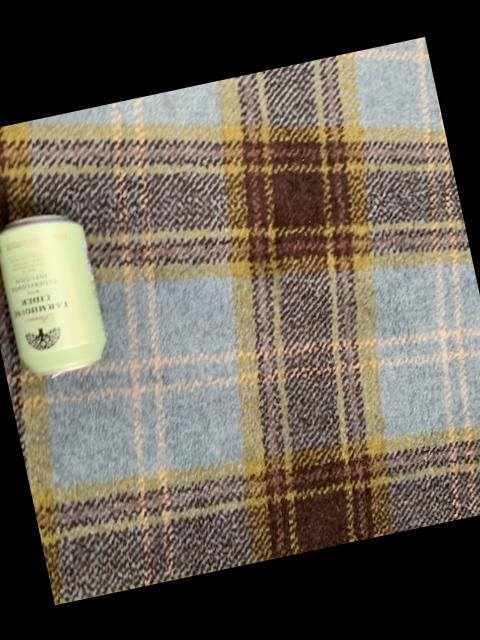metal: (0, 212, 107, 372)
